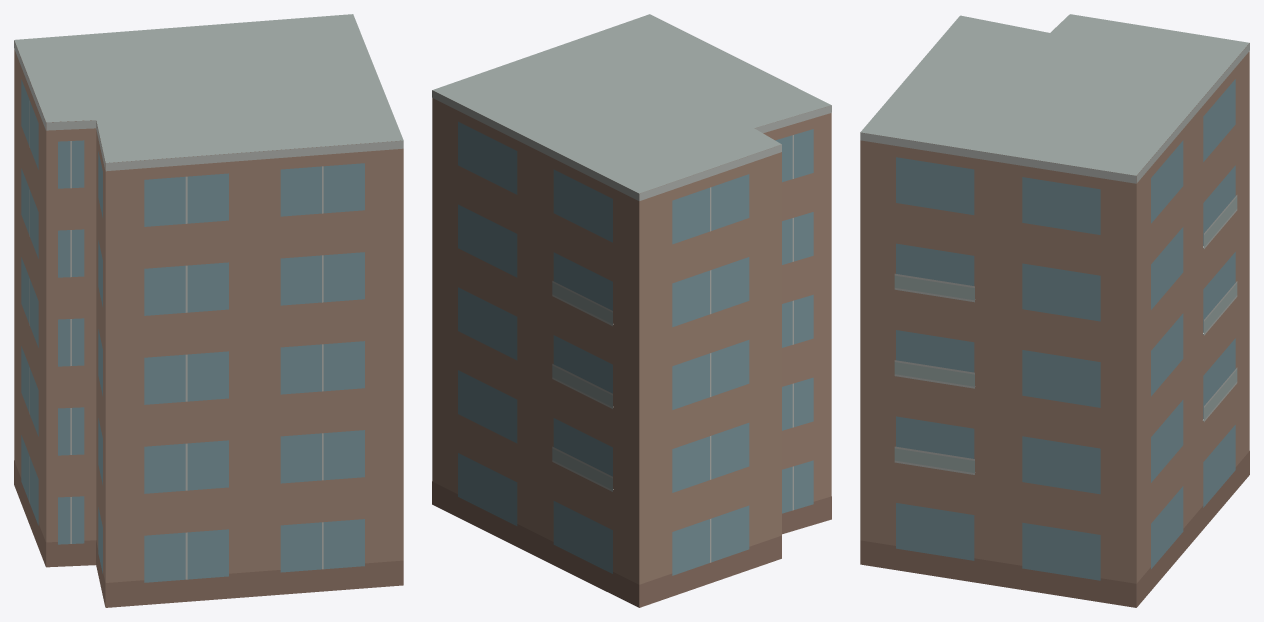
Rendered from survey-upis-33041483.glb.
3 renders of one model, left to right at view 1: azimuth 30°, elevation 25°; view 2: azimuth 150°, elevation 25°; view 3: azimuth 270°, elevation 25°, orthographic. The views are drawn at different scales.
Parts seen in each view (by area): view 1: survey-upis-33041483.tmp; view 2: survey-upis-33041483.tmp; view 3: survey-upis-33041483.tmp.
Part boxes in pixels (box(x1,y1,x2,y2)): survey-upis-33041483.tmp: box(14, 14, 403, 607); survey-upis-33041483.tmp: box(432, 14, 831, 607); survey-upis-33041483.tmp: box(860, 14, 1249, 607).
Size of the model in its own units: 10.61 by 13.2 by 10.79.
